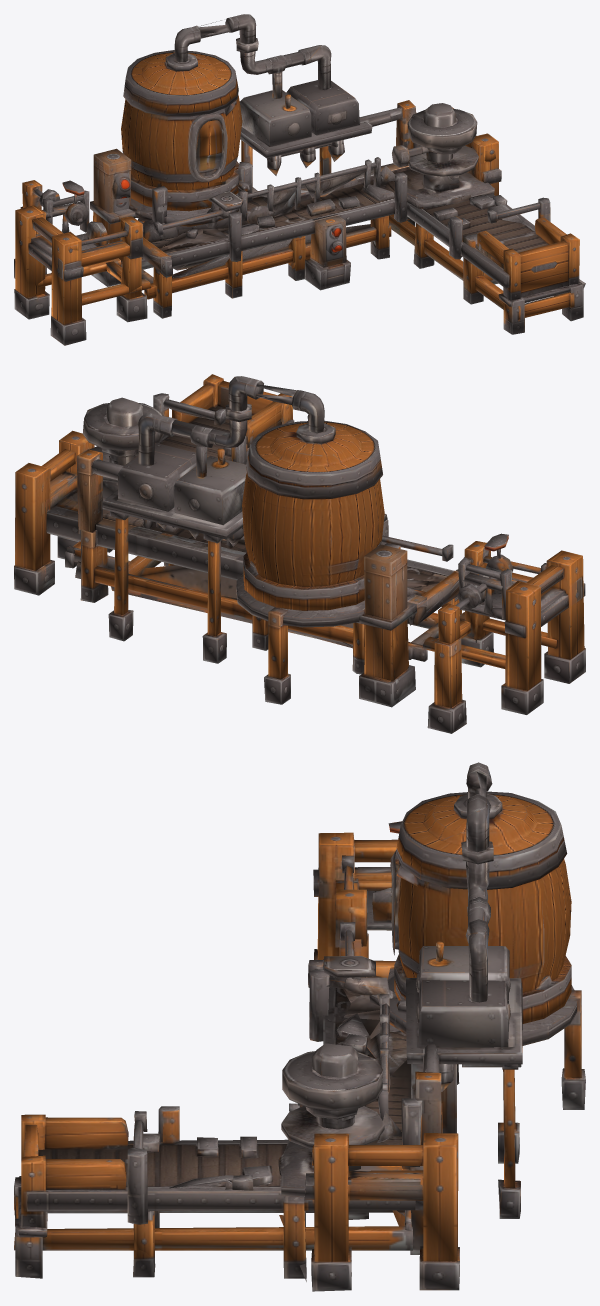
File: bottlingStation.glb
3 renders of one model, top to bottom at view 1: azimuth 30°, elevation 25°; view 2: azimuth 150°, elevation 25°; view 3: azimuth 270°, elevation 25°, orthographic. The views are drawn at different scales.
Bounding box in the file's own units: 1 × 0.5176 × 0.7754.
Materials: 1 (1 with a texture image).
